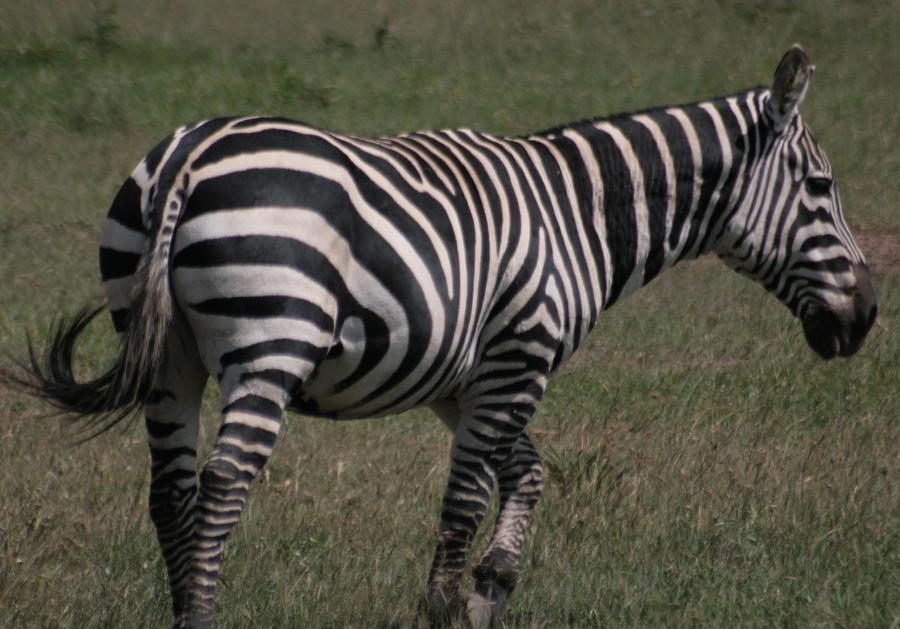zebra_plains: (209, 116, 596, 417)
